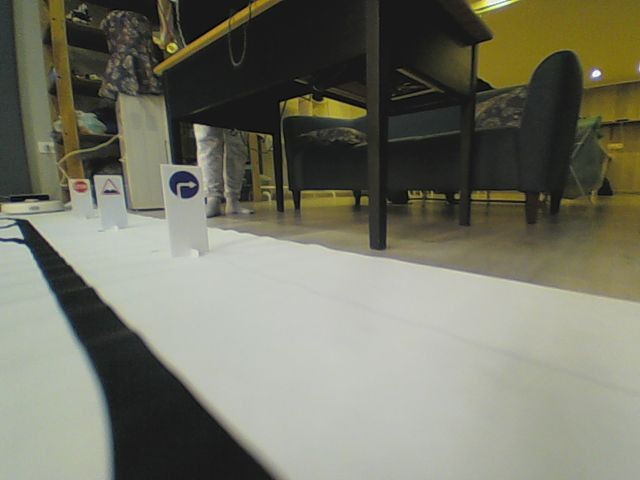Nerov: (98, 177, 120, 196)
Right: (167, 169, 200, 200)
